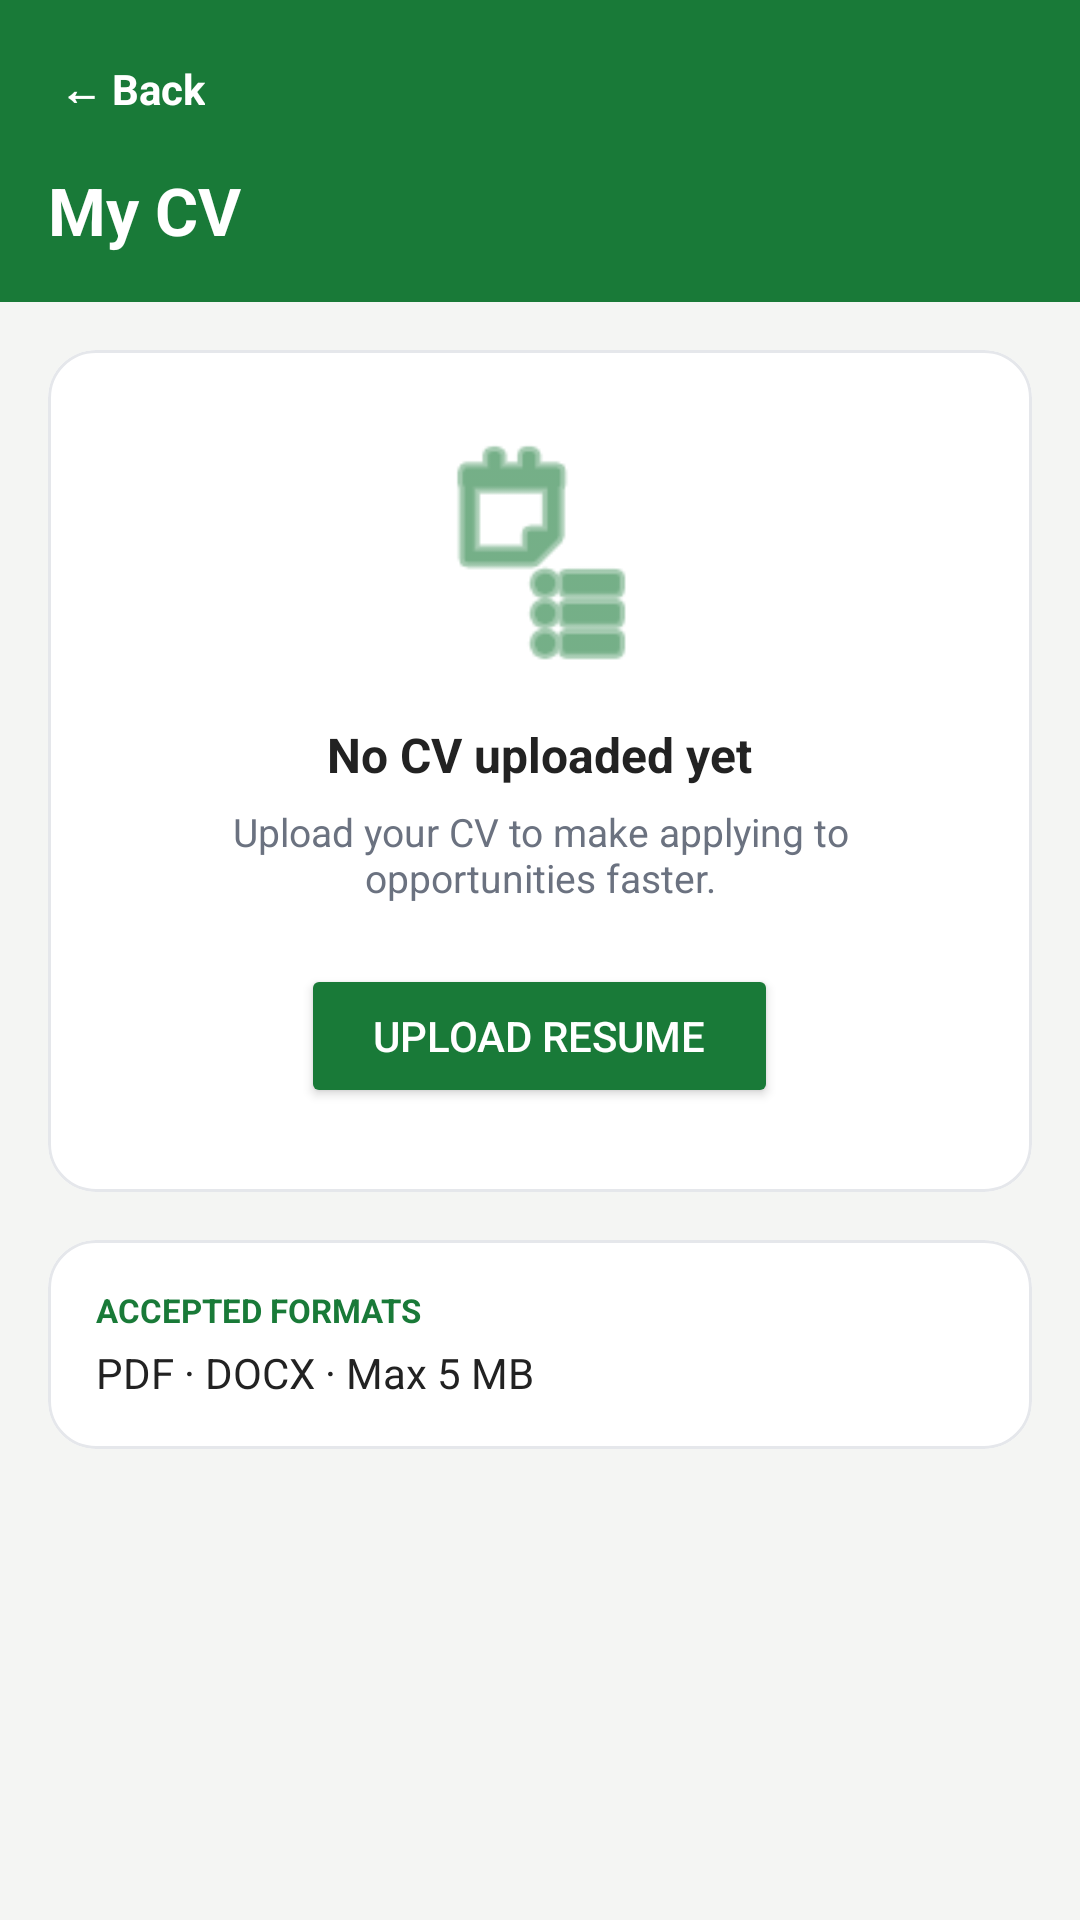

Icon click points for this 1080px×1920px phone screenshot, format (x=x, y=y):
agenda: (x=541, y=553)
